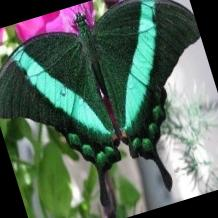butterfly: (0, 0, 200, 218)
